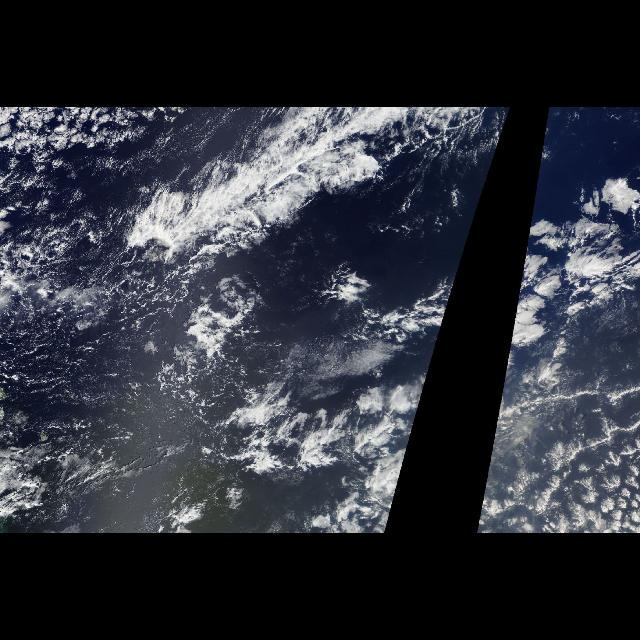Fish: (111, 107, 492, 279)
Flower: (504, 166, 640, 362), (406, 166, 492, 362)
Sugar: (4, 248, 176, 408)
